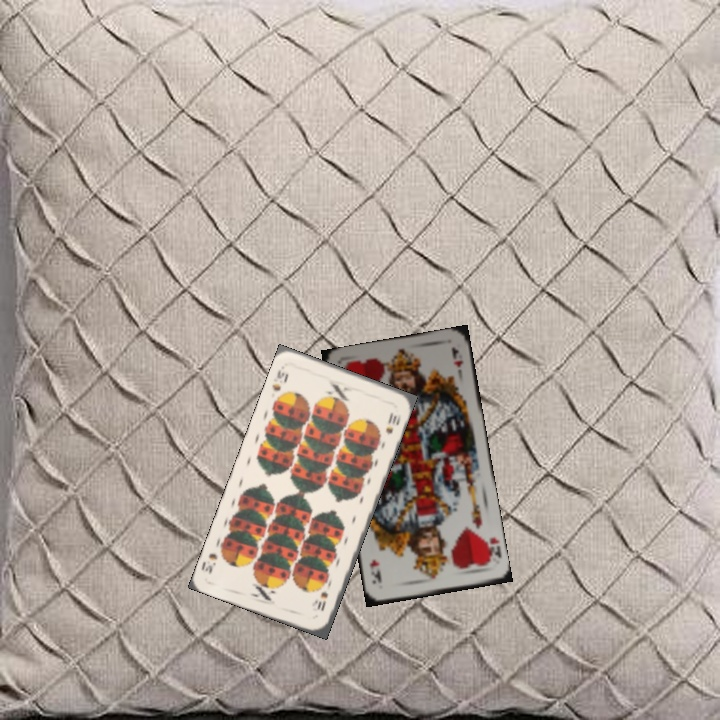HK: (480, 533, 504, 565)
S10: (268, 366, 291, 394), (313, 586, 331, 614)
